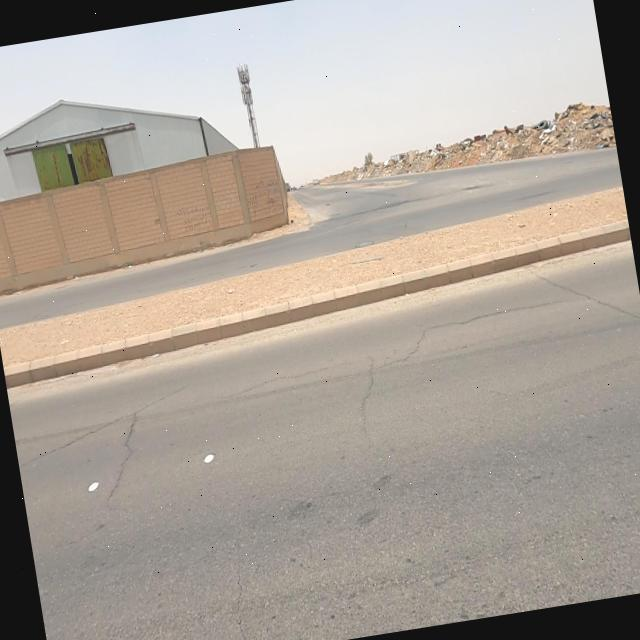Graffiti: (246, 176, 286, 218), (175, 205, 213, 236)
